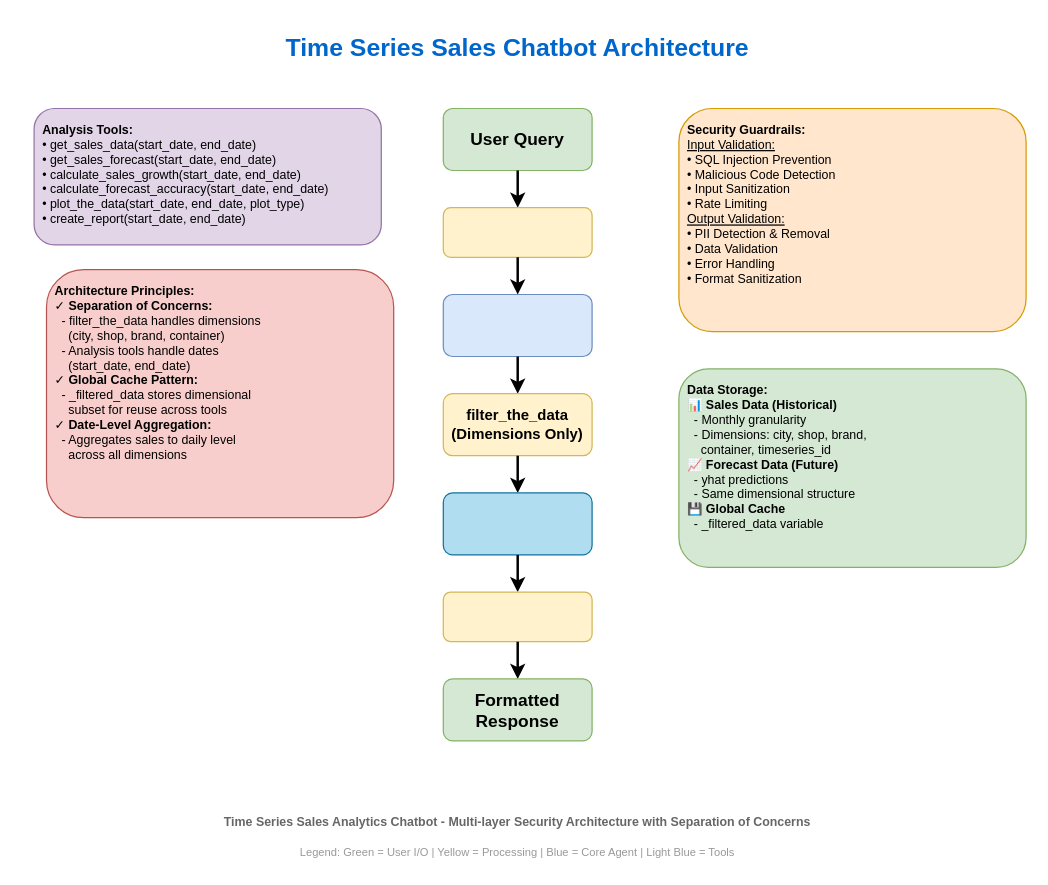
Image size: 1048x885. Some labels were removed from this diagram. Each missing label, with the box of its shape:
AI Agent (Claude Sonnet 4.6): (442, 293, 592, 356)
Analysis Tools (with Date Filters): (442, 492, 592, 555)
Input Guardrails: (442, 206, 592, 257)
Output Guardrails: (442, 591, 592, 642)
